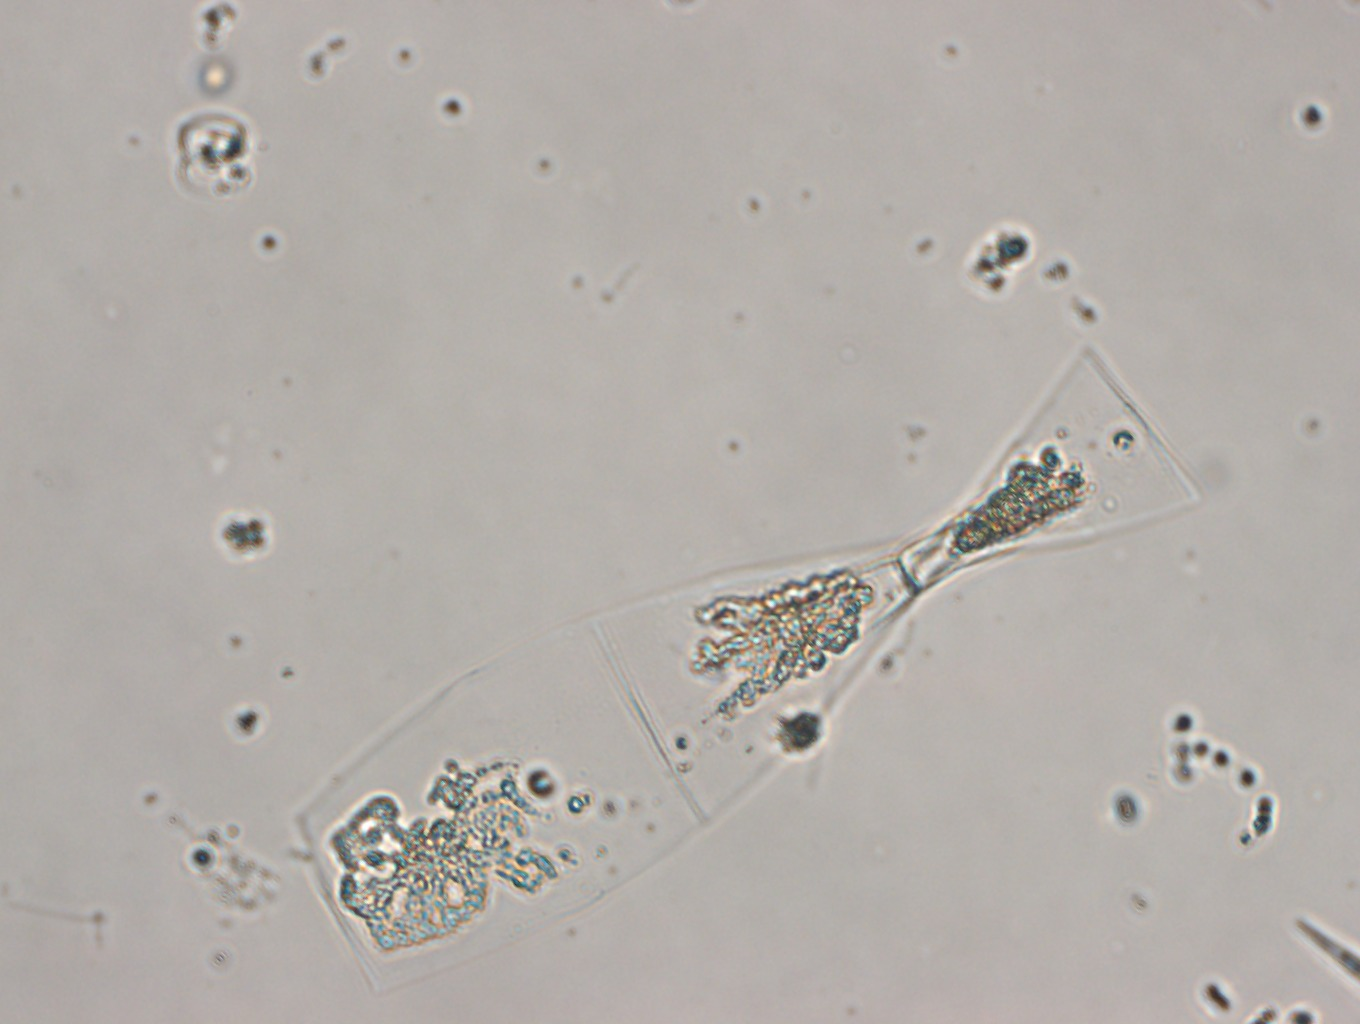helicotheca: (295, 353, 1214, 997)
